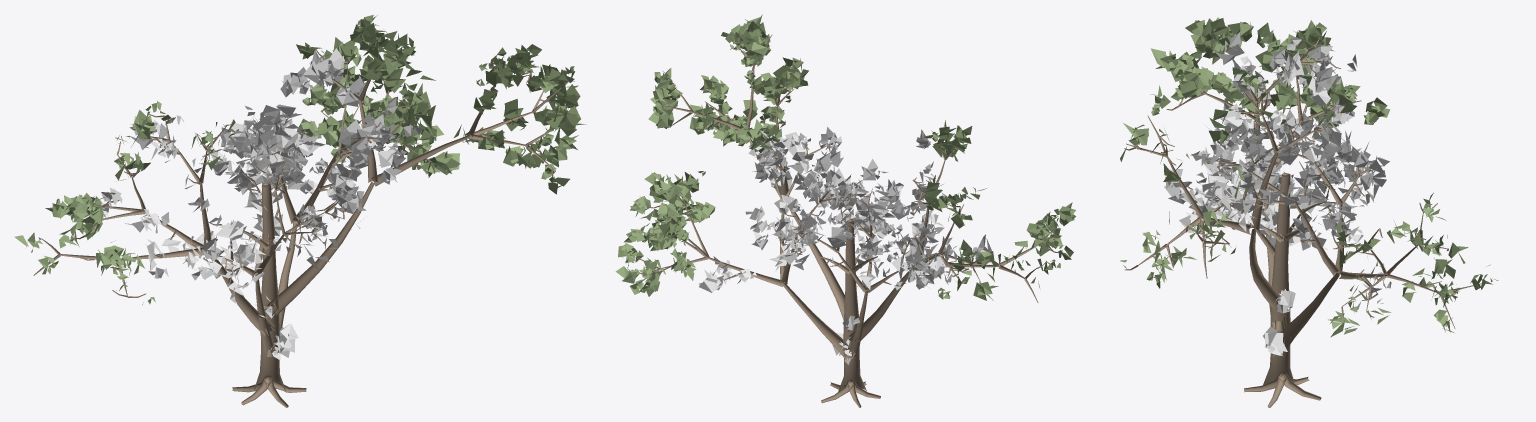
The model's file is tree-e-close.glb.
The picture shows the model from 3 angles, left to right: view 1: azimuth 30°, elevation 25°; view 2: azimuth 150°, elevation 25°; view 3: azimuth 270°, elevation 25°; orthographic projection. The views are drawn at different scales.
Parts seen in each view (by area): view 1: leaf, leafDeep, wood; view 2: leaf, leafDeep, wood; view 3: leafDeep, leaf, wood.
Boxes of the visible parts, x1,y1,x2,y2 form: leaf: (14,15,586,304); leafDeep: (94,48,422,360); wood: (33,37,571,407); leaf: (615,14,1075,300); leafDeep: (699,127,993,364); wood: (630,35,1060,407); leafDeep: (1164,32,1391,357); leaf: (1120,17,1498,337); wood: (1124,25,1481,407).
Size of the model in its own units: 22.21 by 14.66 by 14.64.
